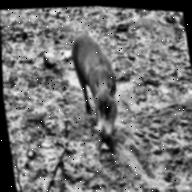boar: (63, 28, 149, 166)
